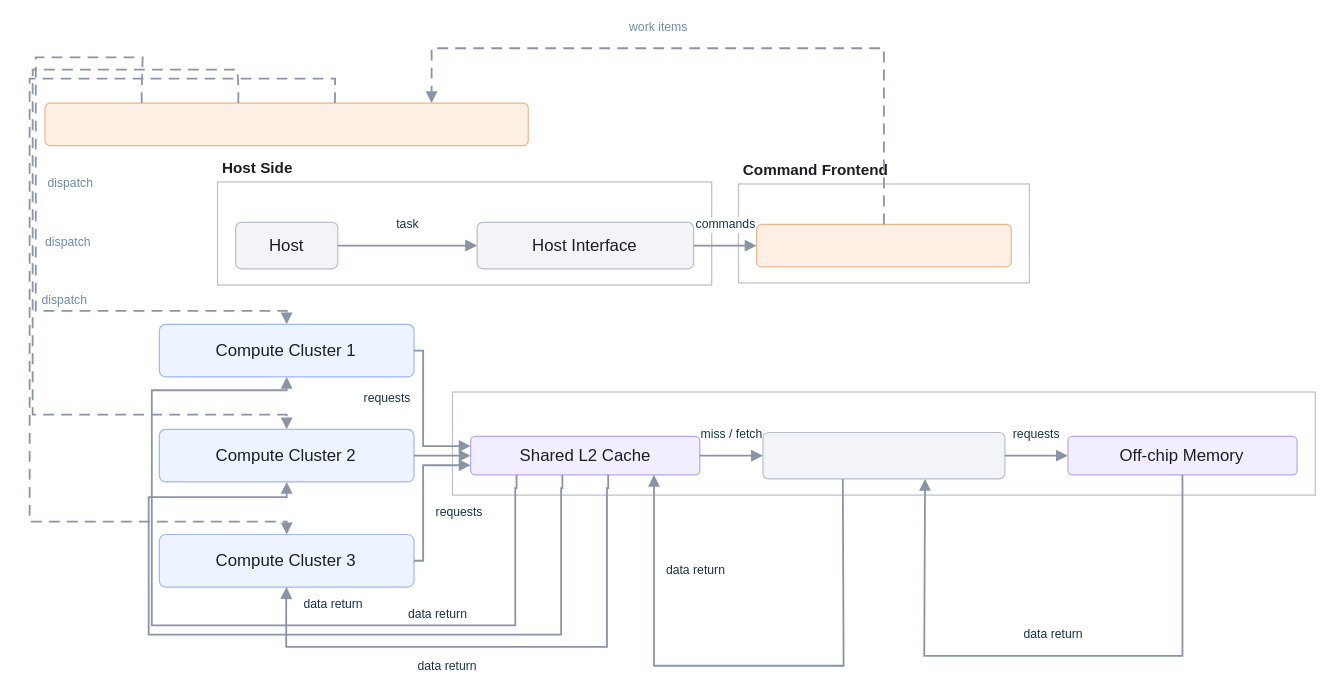
The diagram is 1337 pixels wide and 697 high, and some of its shapes have lost their labels. Here are the shapes that lost their labels. From the top down, the box of each, then its label:
(44, 102, 528, 146): Thread Scheduler / Work Distributor
(755, 223, 1011, 267): Command Processor
(451, 391, 1315, 495): Shared Memory Hierarchy
(762, 431, 1005, 479): Memory Interface
